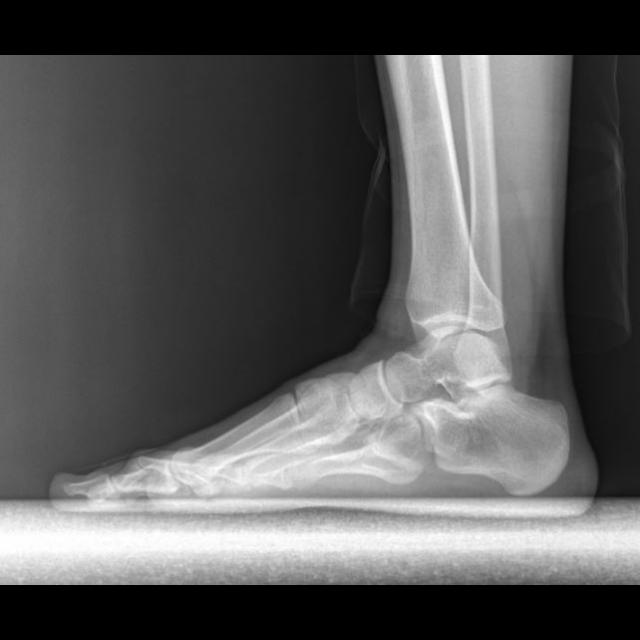a: (421, 384, 568, 495)
b: (349, 361, 402, 419)
c: (169, 392, 325, 500)
